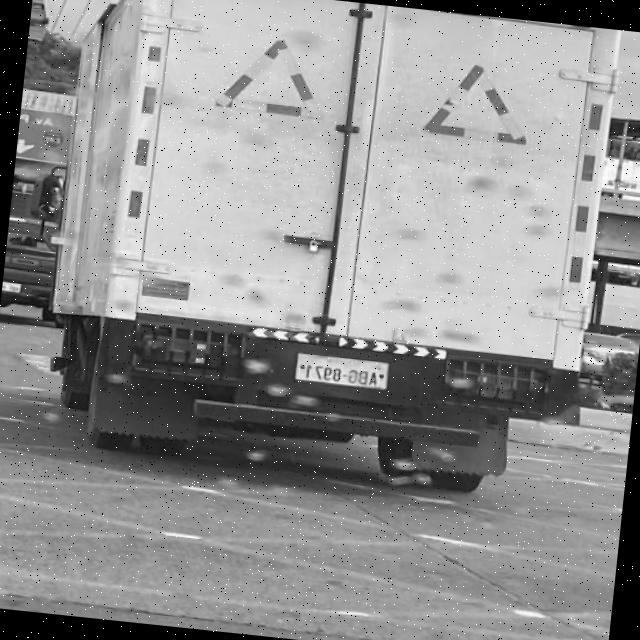Placa: (295, 352, 388, 388), (3, 282, 21, 292)
